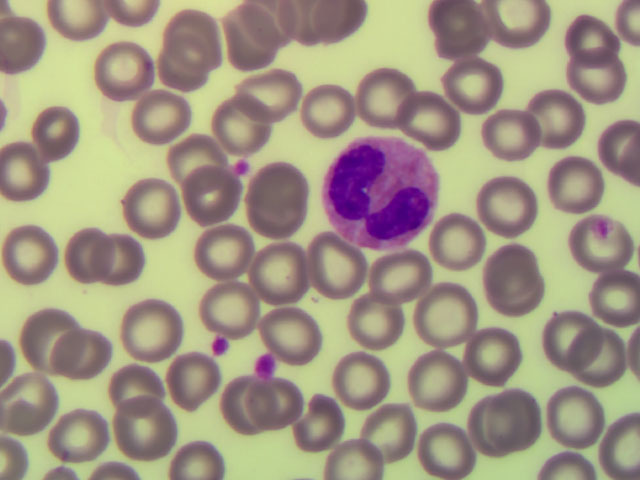Platelets: (253, 354, 280, 376), (207, 334, 230, 352), (229, 158, 255, 172)
RBC: (319, 413, 385, 480), (93, 40, 159, 106), (24, 90, 90, 156), (56, 217, 122, 283), (86, 225, 152, 291), (117, 177, 183, 243), (176, 171, 242, 237), (158, 126, 224, 192), (134, 93, 200, 159), (150, 47, 216, 113), (161, 2, 227, 68), (204, 5, 270, 71), (242, 50, 308, 116), (211, 86, 277, 152), (250, 166, 316, 232), (185, 221, 251, 287), (243, 239, 309, 305), (301, 236, 367, 302), (190, 269, 256, 335), (111, 297, 177, 363), (58, 320, 124, 386), (27, 306, 93, 372), (33, 396, 99, 462), (105, 351, 171, 417), (111, 389, 177, 455), (161, 351, 227, 417), (204, 373, 270, 439), (256, 380, 322, 446), (288, 390, 354, 456), (349, 398, 415, 464), (332, 342, 398, 408), (259, 303, 325, 369), (337, 291, 403, 357), (371, 240, 437, 306), (421, 274, 487, 340), (423, 200, 489, 266), (482, 236, 548, 302), (478, 275, 544, 341), (465, 321, 531, 387), (411, 342, 477, 408), (413, 412, 479, 478), (478, 383, 544, 449), (547, 386, 613, 452), (563, 331, 629, 397), (528, 301, 594, 367), (574, 261, 640, 327), (574, 212, 640, 278), (540, 155, 606, 221), (470, 100, 536, 166), (482, 174, 548, 240), (522, 81, 588, 147), (560, 48, 626, 114), (559, 1, 625, 67), (489, 1, 555, 67), (421, 1, 487, 67), (440, 43, 506, 109), (395, 95, 461, 161), (361, 63, 427, 129), (302, 73, 368, 139), (1, 148, 66, 214), (1, 224, 66, 290), (240, 1, 306, 66), (1, 356, 66, 422), (1, 17, 66, 83), (287, 1, 364, 51)
WBC: (327, 133, 441, 254)
